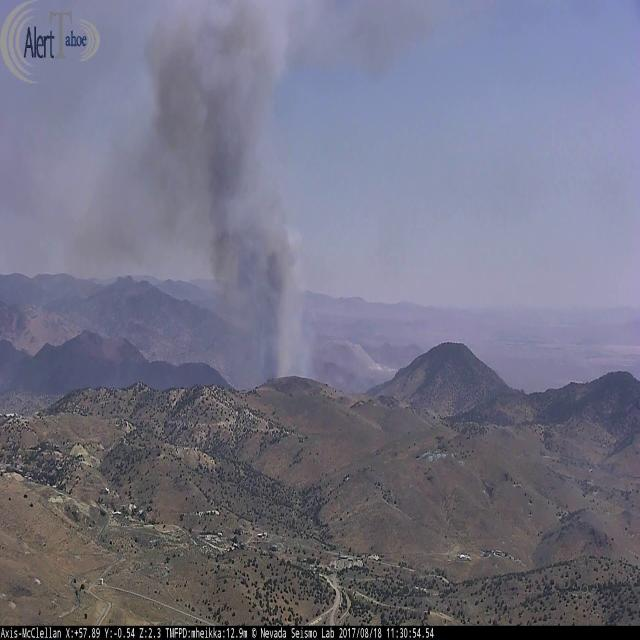smoke: (116, 0, 462, 391)
